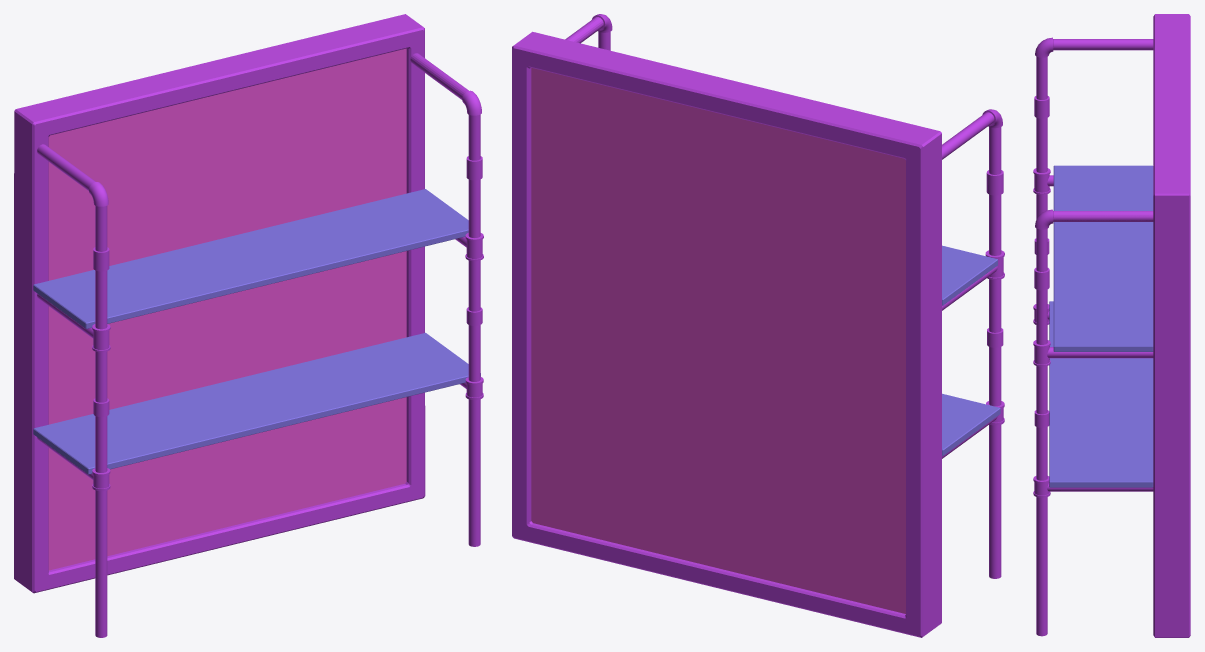
The model's file is shelfA.fbx.
3 views of the same model, side by side, from view 1: azimuth 30°, elevation 25°; view 2: azimuth 150°, elevation 25°; view 3: azimuth 270°, elevation 25° (orthographic). The views are drawn at different scales.
Parts seen in each view (by area): view 1: shelfA; view 2: shelfA; view 3: shelfA.
Part boxes in pixels (x1=…): shelfA: x1=14, y1=14, x2=483, y2=637; shelfA: x1=512, y1=14, x2=1004, y2=637; shelfA: x1=1033, y1=14, x2=1190, y2=637.
Size of the model in its own units: 119 by 136 by 43.6.
